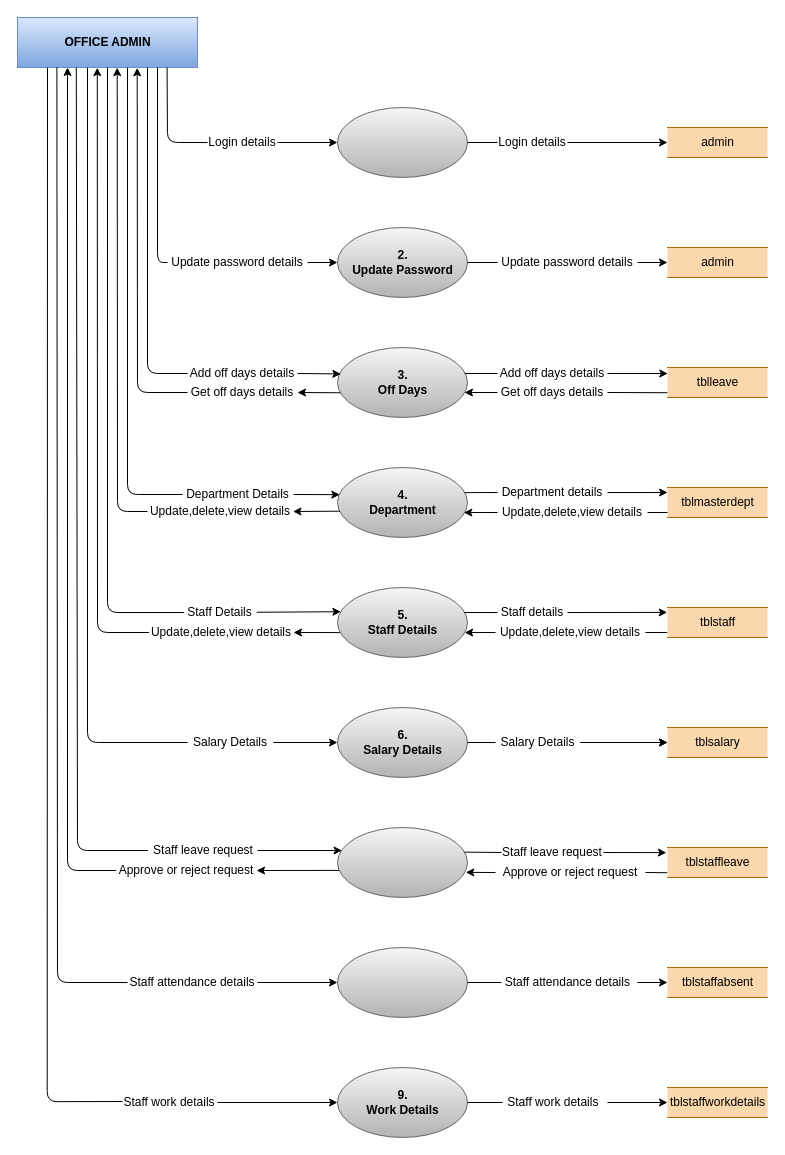
Some shapes in this 785 by 1155 pixel diagram are drawn without their labels. Each missing label, with the centre of its shape:
"1. Admin Login" goes at pixel 402 142.
"7. Staff Leave" goes at pixel 402 862.
"8. Attendance" goes at pixel 402 982.
